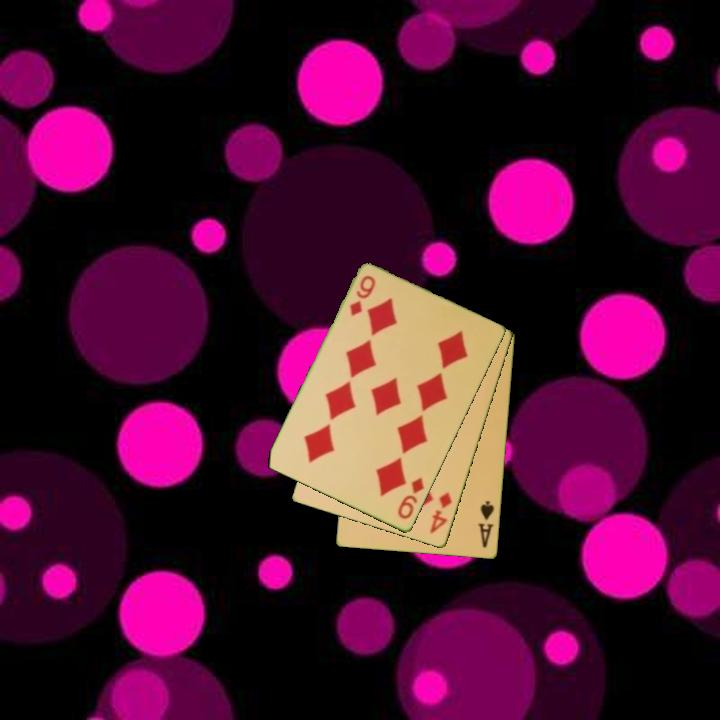4d: (426, 489, 455, 537)
9d: (394, 474, 427, 522), (346, 272, 379, 319)
As: (475, 498, 497, 551)
